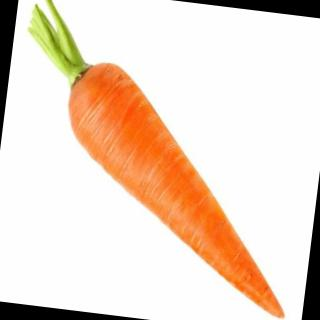Wortel: (47, 61, 314, 320)
